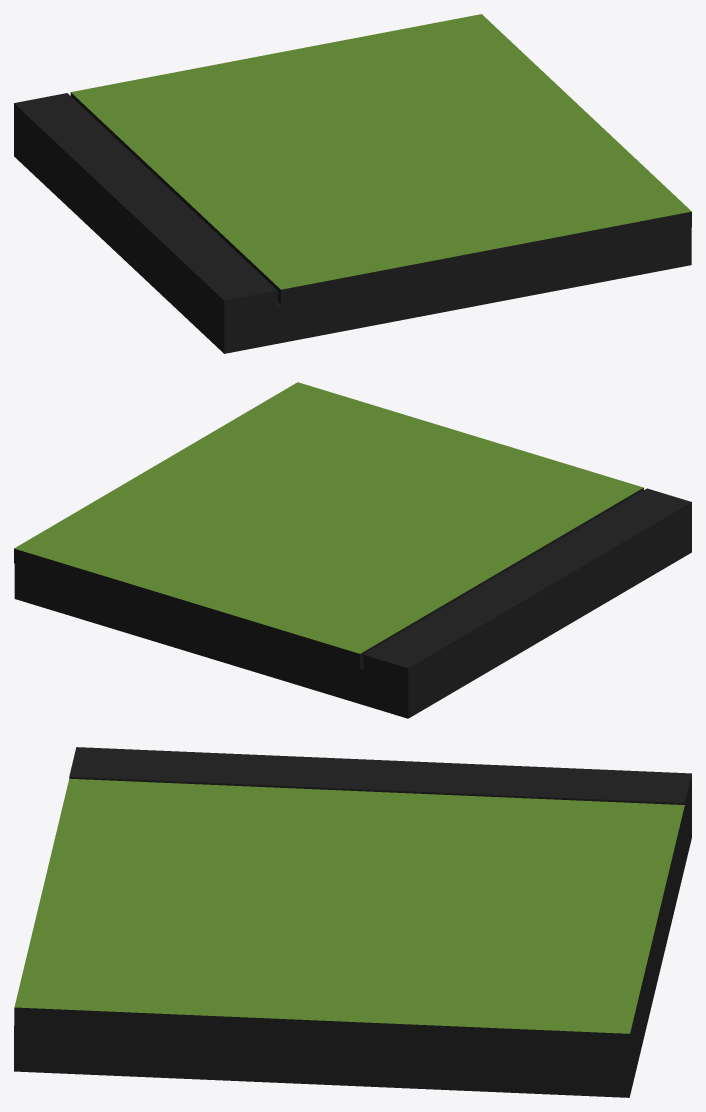
3 views of the same model, one above another, from view 1: azimuth 30°, elevation 25°; view 2: azimuth 150°, elevation 25°; view 3: azimuth 270°, elevation 25° (orthographic). The views are drawn at different scales.
Parts seen in each view (by area): view 1: CDs_Group1.002; view 2: CDs_Group1.002; view 3: CDs_Group1.002.
Boxes of the visible parts, x1,y1,x2,y2 form: CDs_Group1.002: (14, 14, 691, 353); CDs_Group1.002: (14, 382, 691, 718); CDs_Group1.002: (14, 747, 691, 1097).
Size of the model in its own units: 739 by 77.19 by 738.
Materials: 1 (1 with a texture image).
